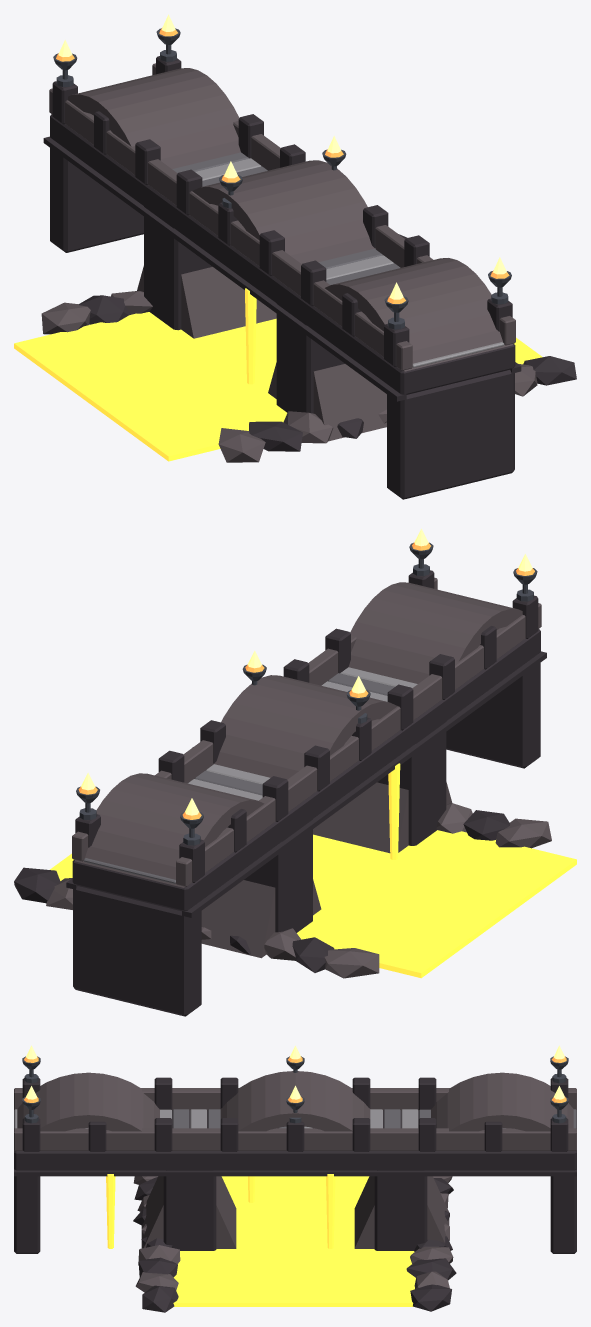
Rendered from LavaBridge.fbx.
The picture shows the model from 3 angles, top to bottom: view 1: azimuth 30°, elevation 25°; view 2: azimuth 150°, elevation 25°; view 3: azimuth 270°, elevation 25°; orthographic projection. The views are drawn at different scales.
Parts seen in each view (by area): view 1: LavaBridge_Basalt, LavaBridge_BasaltLight, LavaBridge_Lava, LavaBridge_DarkMetal, LavaBridge_StoneDark, LavaBridge_Stone, LavaBridge_Fire; view 2: LavaBridge_Basalt, LavaBridge_BasaltLight, LavaBridge_Lava, LavaBridge_DarkMetal, LavaBridge_Stone, LavaBridge_StoneDark, LavaBridge_Fire, LavaBridge_Ember; view 3: LavaBridge_Basalt, LavaBridge_BasaltLight, LavaBridge_Lava, LavaBridge_DarkMetal, LavaBridge_Stone, LavaBridge_StoneDark, LavaBridge_Fire, LavaBridge_Ember.
Boxes of the visible parts, x1,y1,x2,y2 form: LavaBridge_Basalt: (43,56,576,499); LavaBridge_BasaltLight: (41,63,537,462); LavaBridge_Lava: (14,288,542,461); LavaBridge_DarkMetal: (53,28,511,329); LavaBridge_StoneDark: (172,152,400,284); LavaBridge_Stone: (195,158,504,367); LavaBridge_Fire: (58,14,506,299); LavaBridge_Basalt: (14,570,546,1016); LavaBridge_BasaltLight: (46,577,551,978); LavaBridge_Lava: (50,763,576,978); LavaBridge_DarkMetal: (76,542,537,845); LavaBridge_Stone: (188,667,417,800); LavaBridge_StoneDark: (83,673,394,883); LavaBridge_Fire: (81,528,532,815); LavaBridge_Ember: (78,542,534,819); LavaBridge_Basalt: (14,1077,576,1312); LavaBridge_BasaltLight: (14,1071,576,1292); LavaBridge_Lava: (106,1174,415,1306); LavaBridge_DarkMetal: (22,1056,568,1123); LavaBridge_Stone: (14,1109,418,1128); LavaBridge_StoneDark: (172,1109,576,1128); LavaBridge_Fire: (26,1045,564,1099); LavaBridge_Ember: (24,1056,566,1102).
Size of the model in its own units: 41.71 by 21.01 by 64.
